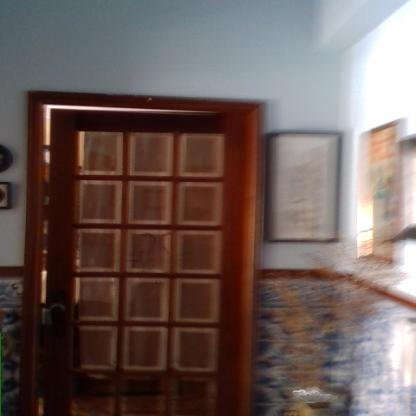closed: (10, 80, 266, 415)
